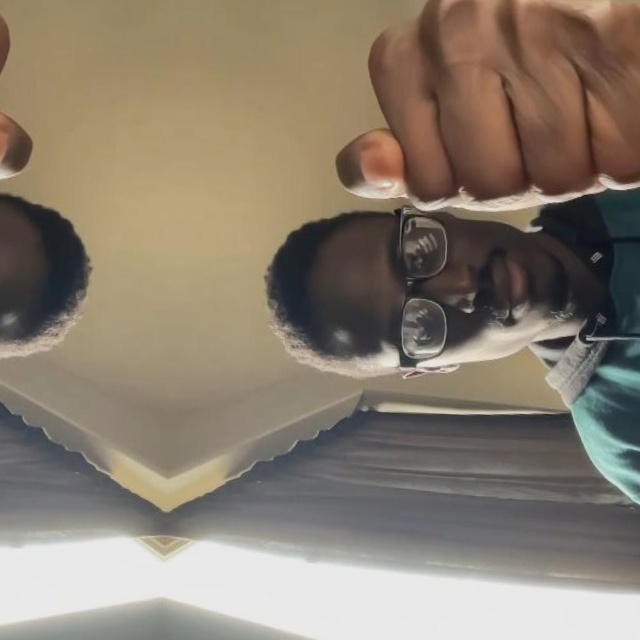Rock: (0, 0, 44, 194)
